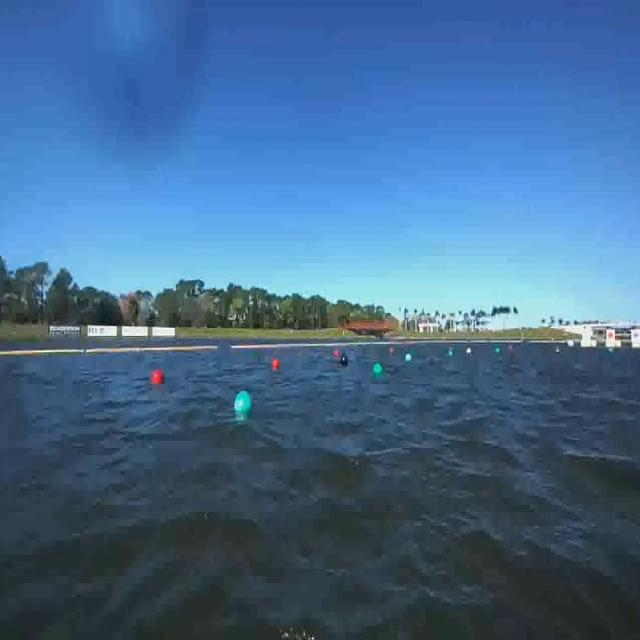black-buoy: (342, 355, 349, 367)
green-buoy: (233, 393, 251, 417), (375, 361, 383, 375), (407, 353, 413, 363)
red-buoy: (152, 368, 164, 385), (273, 358, 281, 369)
